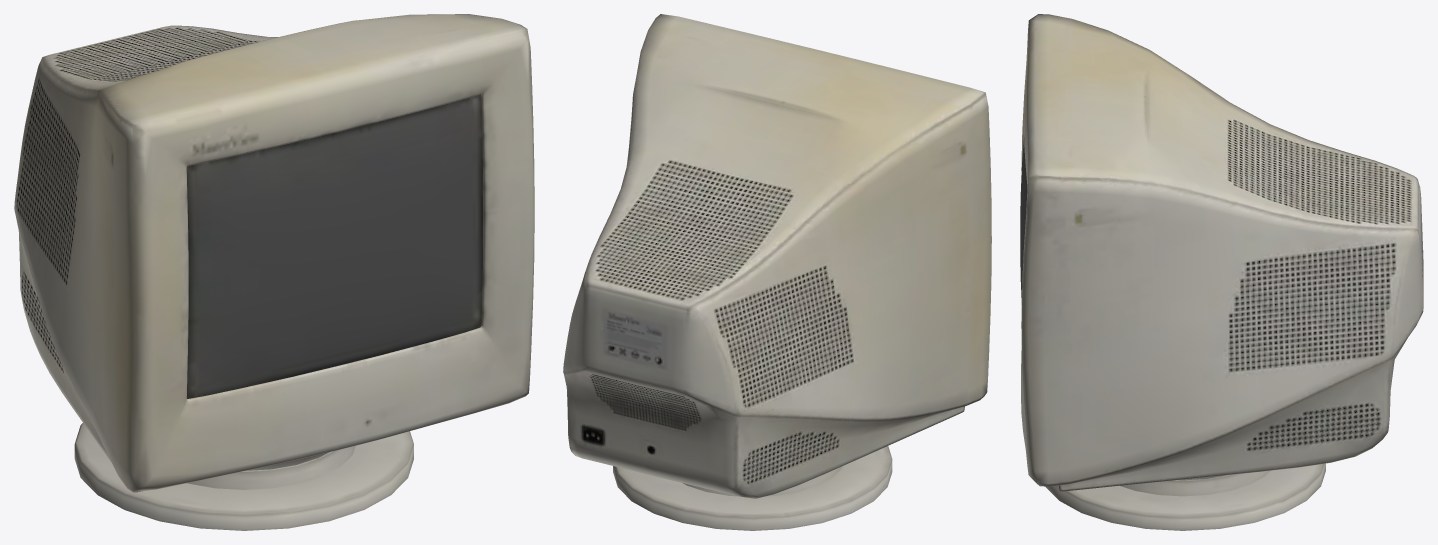
Rendered from crt.glb.
3 views of the same model, side by side, from view 1: azimuth 30°, elevation 25°; view 2: azimuth 150°, elevation 25°; view 3: azimuth 270°, elevation 25° (orthographic). The views are drawn at different scales.
Visible parts, largest first — view 1: CRT_Monitor; view 2: CRT_Monitor; view 3: CRT_Monitor.
Boxes of the visible parts, x1,y1,x2,y2 form: CRT_Monitor: (14, 14, 534, 530); CRT_Monitor: (563, 14, 991, 530); CRT_Monitor: (1020, 14, 1423, 530).
Size of the model in its own units: 0.4059 by 0.433 by 0.4201.
Materials: 2 (2 with a texture image).
